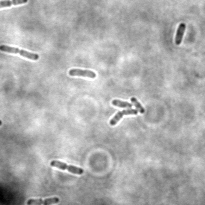microcolony: (108, 95, 146, 128)
rod: (65, 64, 98, 80), (171, 20, 187, 45), (18, 47, 40, 61), (48, 157, 68, 171), (65, 162, 86, 175), (1, 42, 19, 55)
